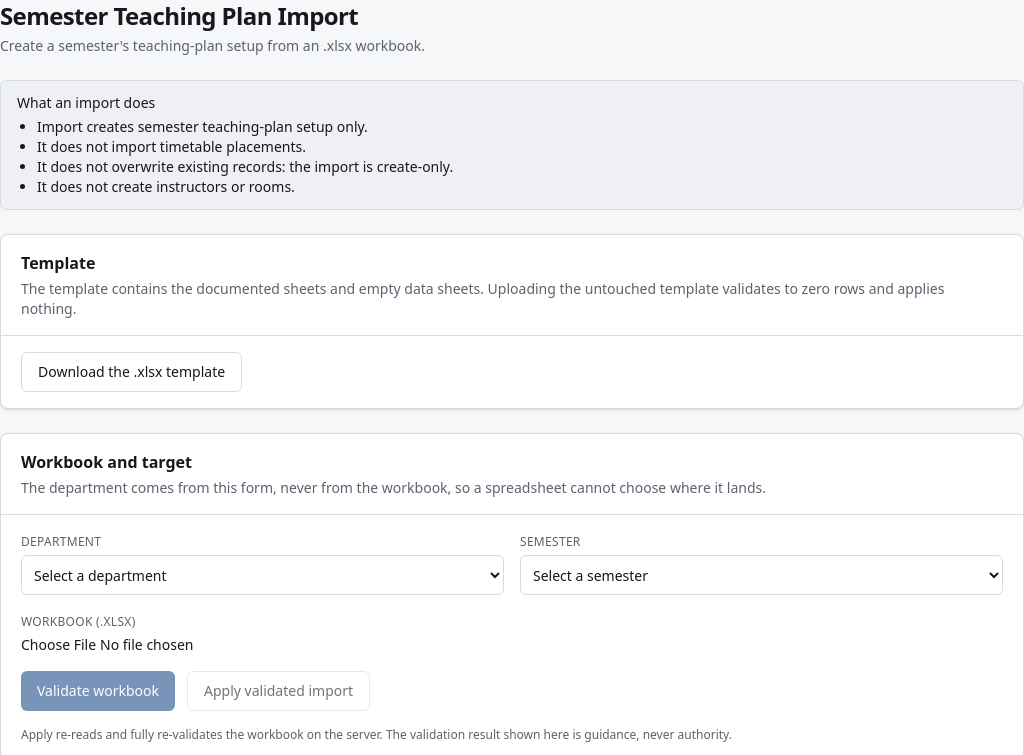
Test: semester plan import › downloads the template as an .xlsx file
Click the button "Download the .xlsx template": (132, 372) [21, 352, 242, 392]
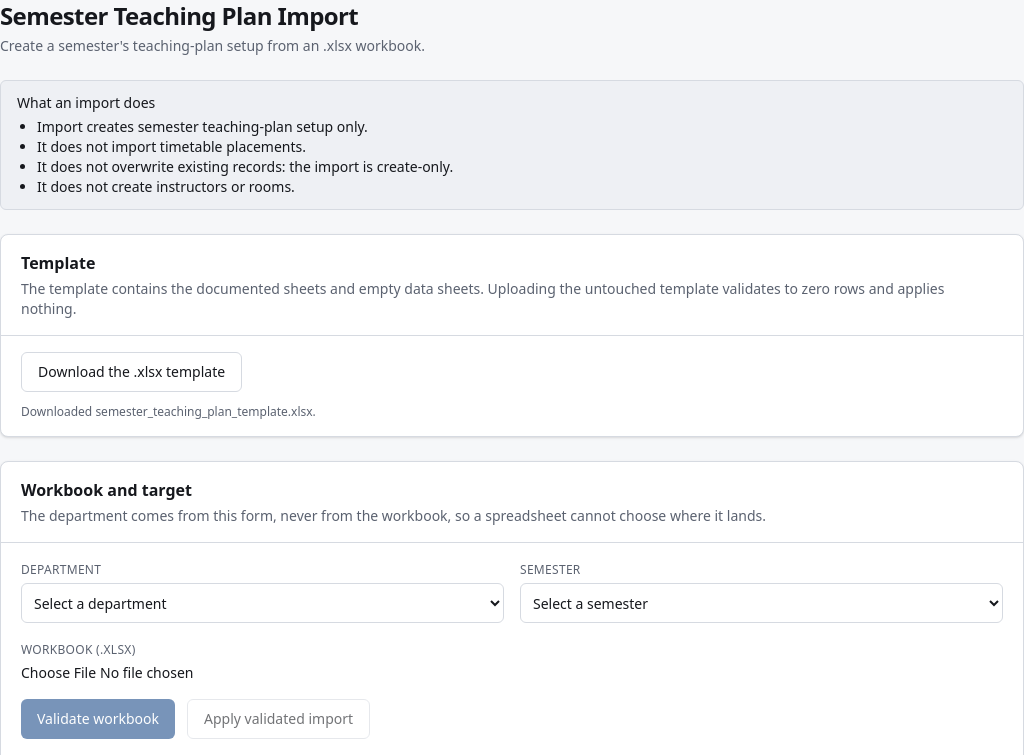
Check: the text "Downloaded semester_teaching_plan_template.xlsx." is shown, box [21, 403, 316, 420]
